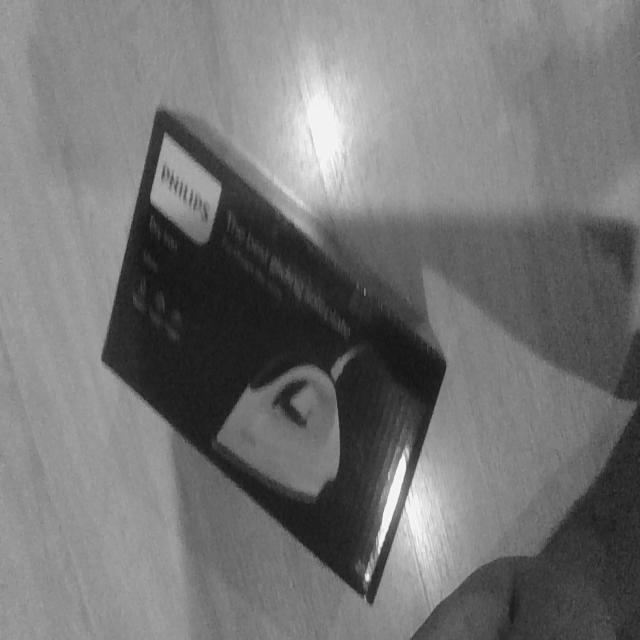IRON: (99, 104, 449, 607)
